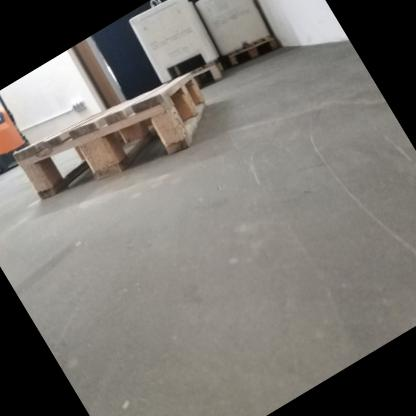BoxFace: (7, 46, 227, 232), (224, 23, 290, 84)
